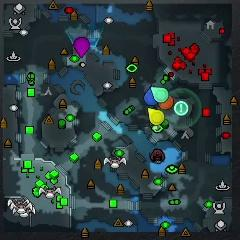Other: (175, 101, 188, 115)
p1: (144, 87, 158, 105)
p2: (150, 86, 169, 102)
p3: (74, 37, 90, 58)
p4: (148, 107, 164, 126)
p5: (159, 95, 174, 109)
